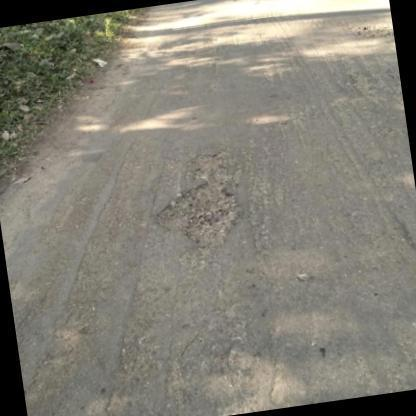pothole: (157, 148, 246, 252), (29, 328, 90, 410), (108, 338, 154, 412), (227, 341, 261, 408)
